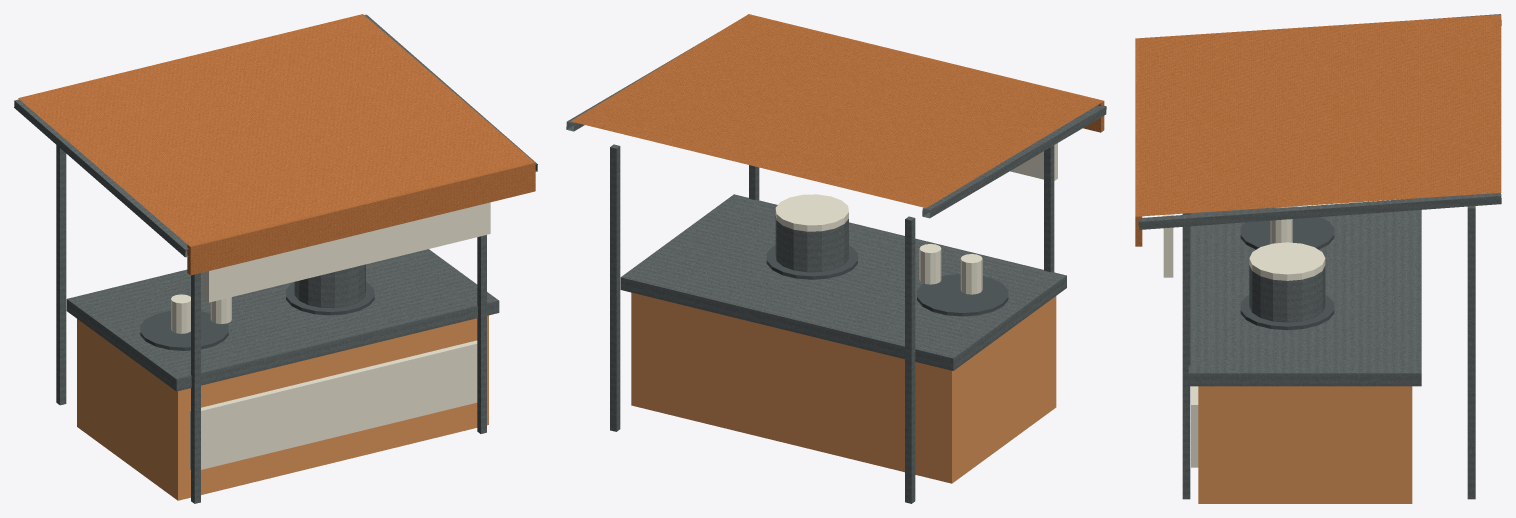
File: tw_food_stall.glb
The picture shows the model from 3 angles, left to right: view 1: azimuth 30°, elevation 25°; view 2: azimuth 150°, elevation 25°; view 3: azimuth 270°, elevation 25°; orthographic projection. The views are drawn at different scales.
Visible parts, largest first — view 1: WovenAwning, GalvanizedMetal, PaintedCream, FictionalShopAccent, CharcoalRecess; view 2: WovenAwning, FictionalShopAccent, GalvanizedMetal, PaintedCream, CharcoalRecess; view 3: WovenAwning, GalvanizedMetal, FictionalShopAccent, PaintedCream, CharcoalRecess.
Boxes of the visible parts, x1,y1,x2,y2 form: WovenAwning: (18, 14, 535, 275); GalvanizedMetal: (14, 14, 537, 503); PaintedCream: (171, 202, 490, 469); FictionalShopAccent: (77, 315, 488, 500); CharcoalRecess: (140, 282, 374, 350); WovenAwning: (570, 14, 1104, 207); FictionalShopAccent: (631, 292, 1056, 483); GalvanizedMetal: (566, 34, 1106, 503); PaintedCream: (775, 143, 1057, 294); CharcoalRecess: (766, 245, 1008, 316); WovenAwning: (1135, 14, 1501, 246); GalvanizedMetal: (1138, 14, 1501, 499); FictionalShopAccent: (1198, 386, 1412, 503); PaintedCream: (1163, 206, 1325, 467); CharcoalRecess: (1240, 217, 1334, 330).
Bounding box in the file's own units: 3.62 × 2.97 × 3.08.
Materials: 5 (2 with a texture image).
